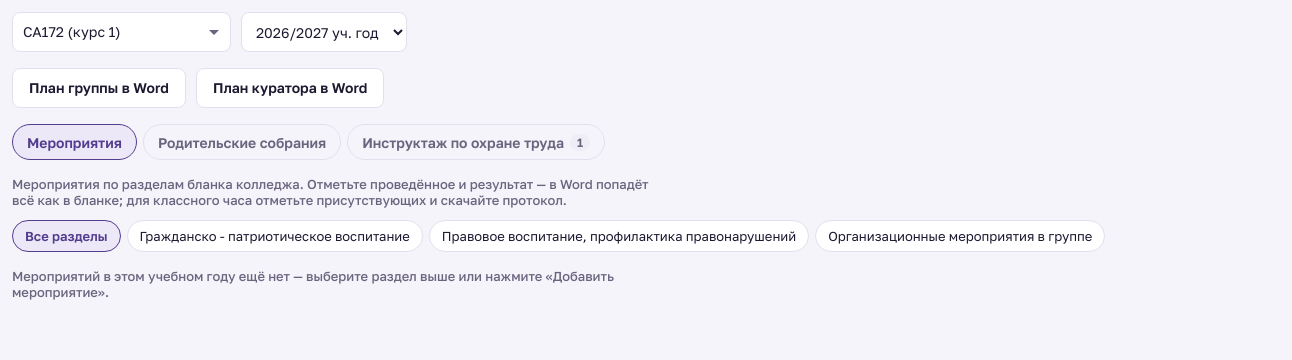
Test: PlanPage — журнал инструктажа по охране труда › только чтение: бланк есть, правки и удаления нет; удаление после подтверждения
Click the tab "Инструктаж по охране труда 1".
click(476, 142)  # box x1=347 y1=124 x2=605 y2=160
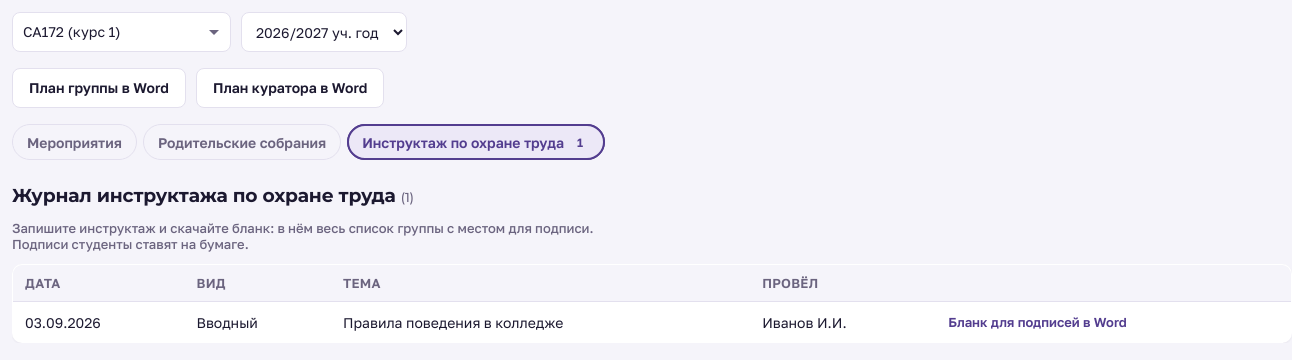
Expected: the text "Правила поведения в колледже" is shown, x1=331 y1=302 x2=750 y2=342
Expected: the button "Бланк для подписей в Word" is shown, x1=944 y1=312 x2=1131 y2=332
